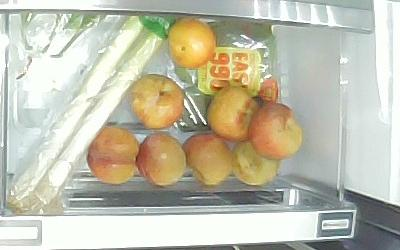prune: (127, 74, 185, 129), (249, 103, 303, 160), (87, 126, 140, 184), (207, 86, 260, 141), (136, 134, 187, 186), (183, 132, 233, 185), (167, 18, 216, 69), (233, 141, 279, 184)
